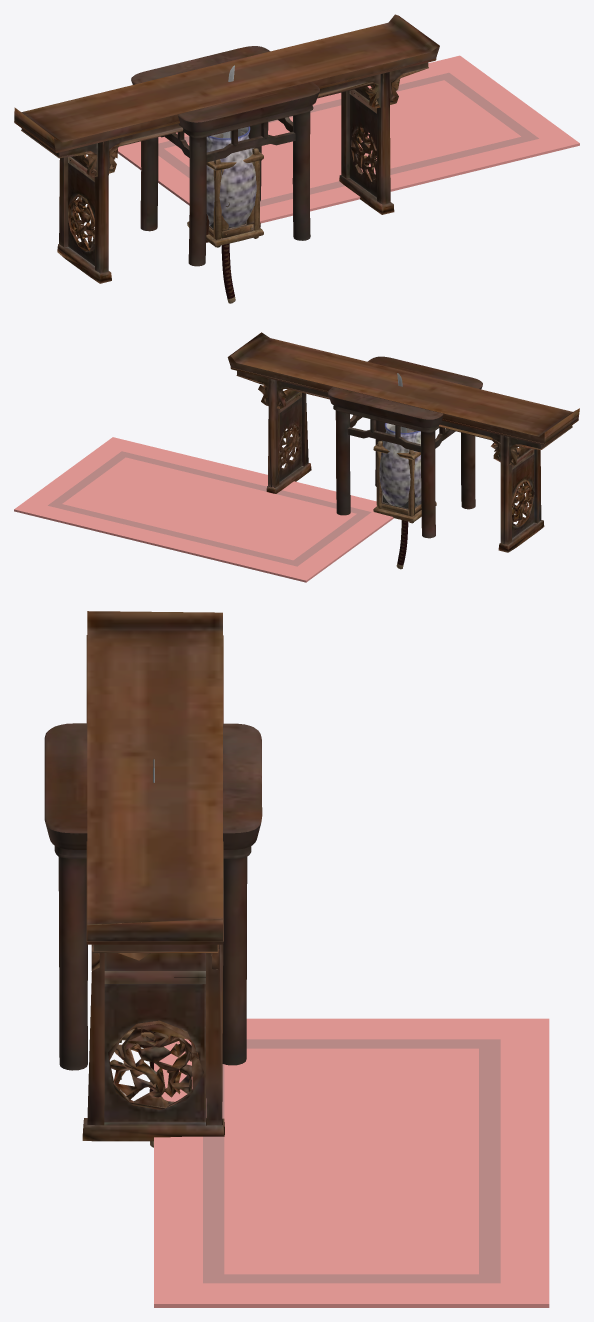
File: haunted.glb
3 renders of one model, top to bottom at view 1: azimuth 30°, elevation 25°; view 2: azimuth 150°, elevation 25°; view 3: azimuth 270°, elevation 25°, orthographic. The views are drawn at different scales.
Visible parts, largest first — view 1: chinese_console_table, rugRectangle(Clone), chinese_stool, antique_ceramic_vase_01, wooden_lantern_01, antique_katana_01, wooden_lantern_01_door; view 2: rugRectangle(Clone), chinese_console_table, chinese_stool, antique_ceramic_vase_01, wooden_lantern_01, antique_katana_01; view 3: rugRectangle(Clone), chinese_console_table, chinese_stool.
Boxes of the visible parts, bbox=[...] form: chinese_console_table: bbox=[14, 14, 439, 283]; rugRectangle(Clone): bbox=[117, 55, 579, 223]; chinese_stool: bbox=[131, 46, 319, 266]; antique_ceramic_vase_01: bbox=[206, 126, 256, 227]; wooden_lantern_01: bbox=[187, 134, 263, 247]; antique_katana_01: bbox=[221, 65, 235, 303]; wooden_lantern_01_door: bbox=[221, 162, 254, 238]; rugRectangle(Clone): bbox=[14, 437, 393, 582]; chinese_console_table: bbox=[227, 332, 579, 552]; chinese_stool: bbox=[327, 356, 482, 538]; antique_ceramic_vase_01: bbox=[379, 423, 421, 506]; wooden_lantern_01: bbox=[373, 429, 436, 523]; antique_katana_01: bbox=[396, 373, 408, 569]; rugRectangle(Clone): bbox=[154, 1018, 549, 1307]; chinese_console_table: bbox=[82, 611, 224, 1141]; chinese_stool: bbox=[44, 723, 262, 1070].
Size of the model in its own units: 2.42 by 1 by 1.17.
11 materials, 7 textured.
